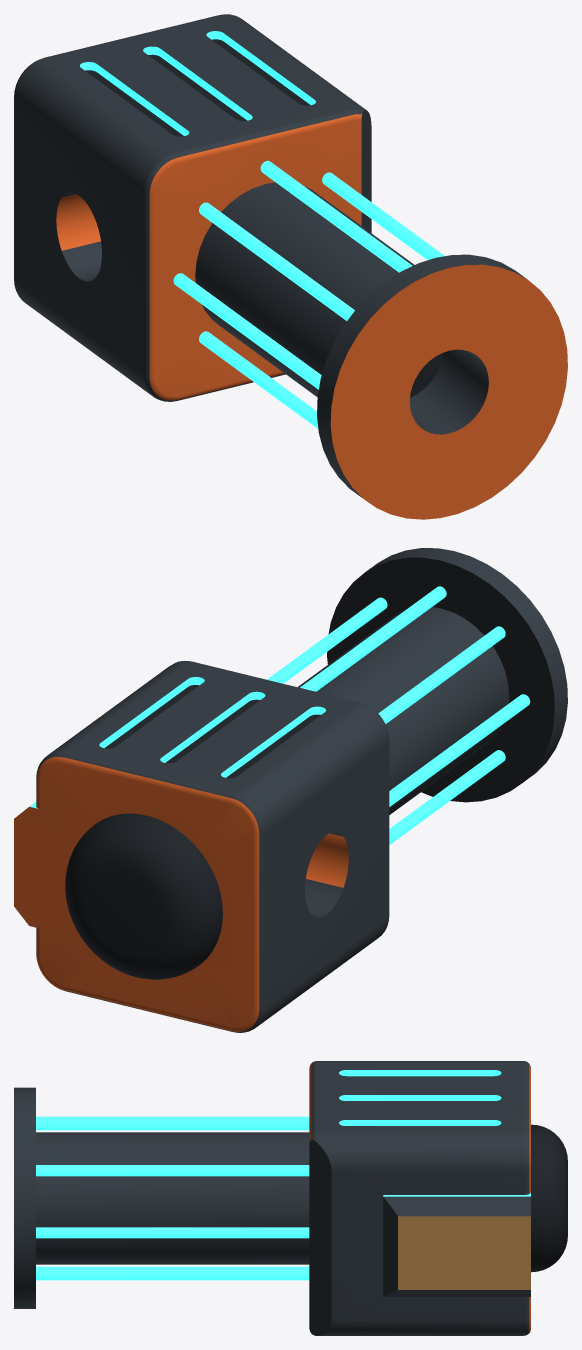
File: shoulder-drive-unit.glb
3 renders of one model, top to bottom at view 1: azimuth 30°, elevation 25°; view 2: azimuth 150°, elevation 25°; view 3: azimuth 270°, elevation 25°, orthographic. The views are drawn at different scales.
Bounding box in the file's own units: 0.0325 × 0.03 × 0.075.
